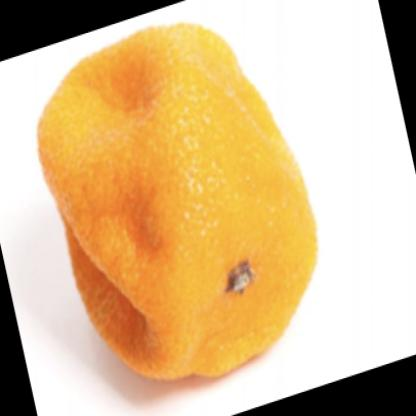rotten_orange: (33, 17, 323, 383)
